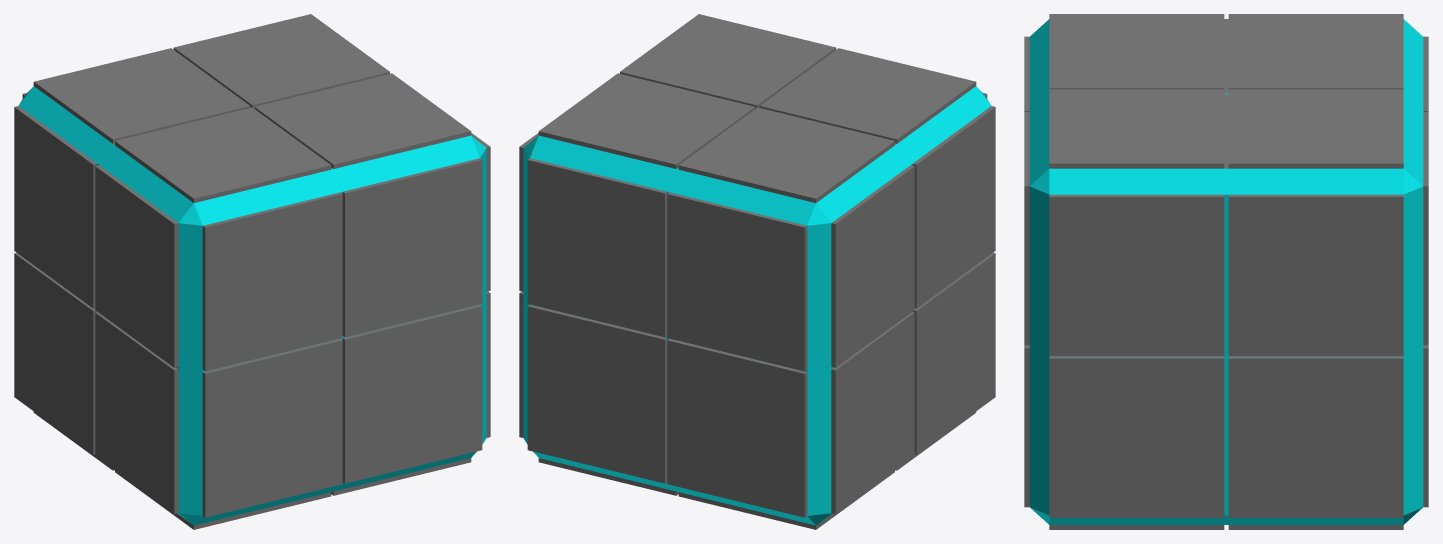
File: Gray Cube.fbx
3 renders of one model, left to right at view 1: azimuth 30°, elevation 25°; view 2: azimuth 150°, elevation 25°; view 3: azimuth 270°, elevation 25°, orthographic. The views are drawn at different scales.
Visible parts, largest first — view 1: pCube3; view 2: pCube3; view 3: pCube3.
Boxes of the visible parts, x1=… form: pCube3: x1=14, y1=14, x2=490, y2=529; pCube3: x1=519, y1=14, x2=995, y2=529; pCube3: x1=1024, y1=14, x2=1428, y2=529.
Size of the model in its own units: 4.84 by 4.84 by 4.84.
